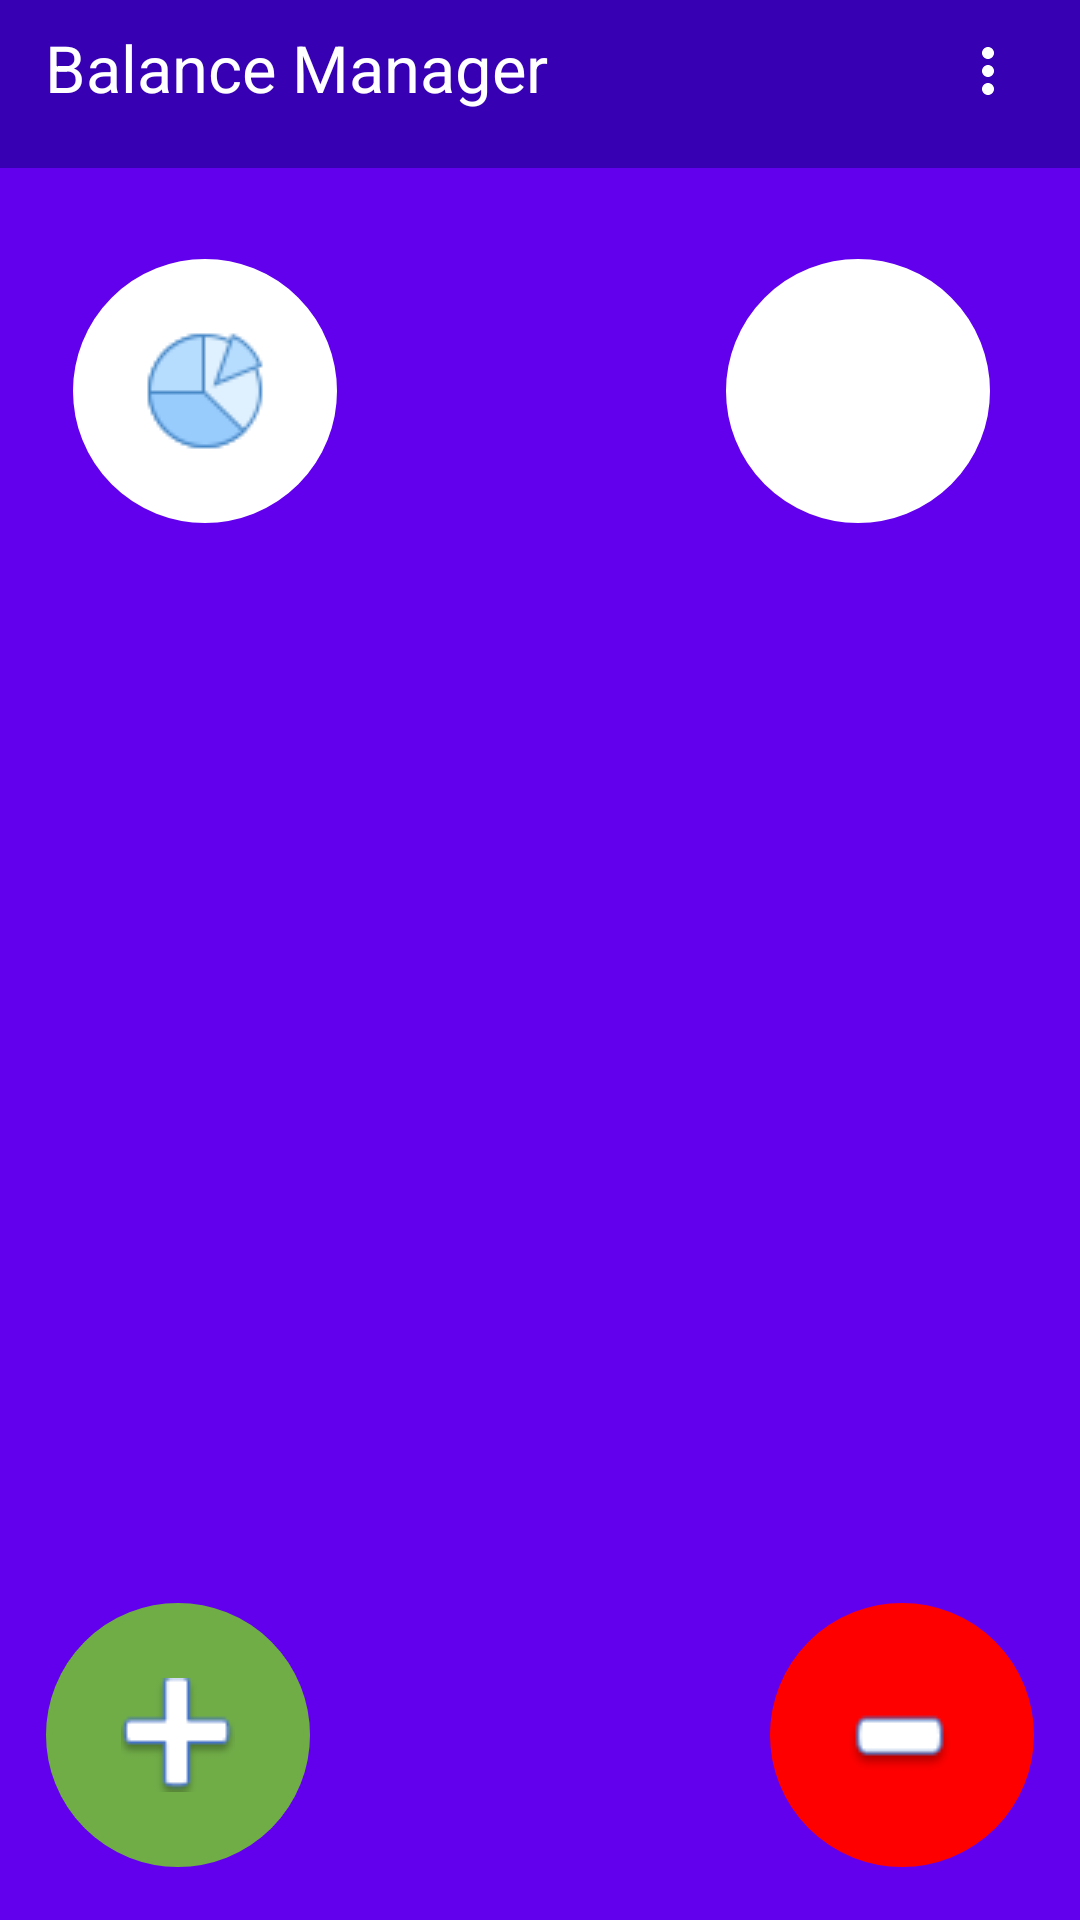

Where icons sit on this 1080w x 1920h app screen, as (x1, y1, x2, y2):
bluechart: (73, 259, 337, 523)
minus: (770, 1603, 1034, 1867)
more vert: (982, 47, 994, 95)
plustrue: (46, 1603, 310, 1867)
